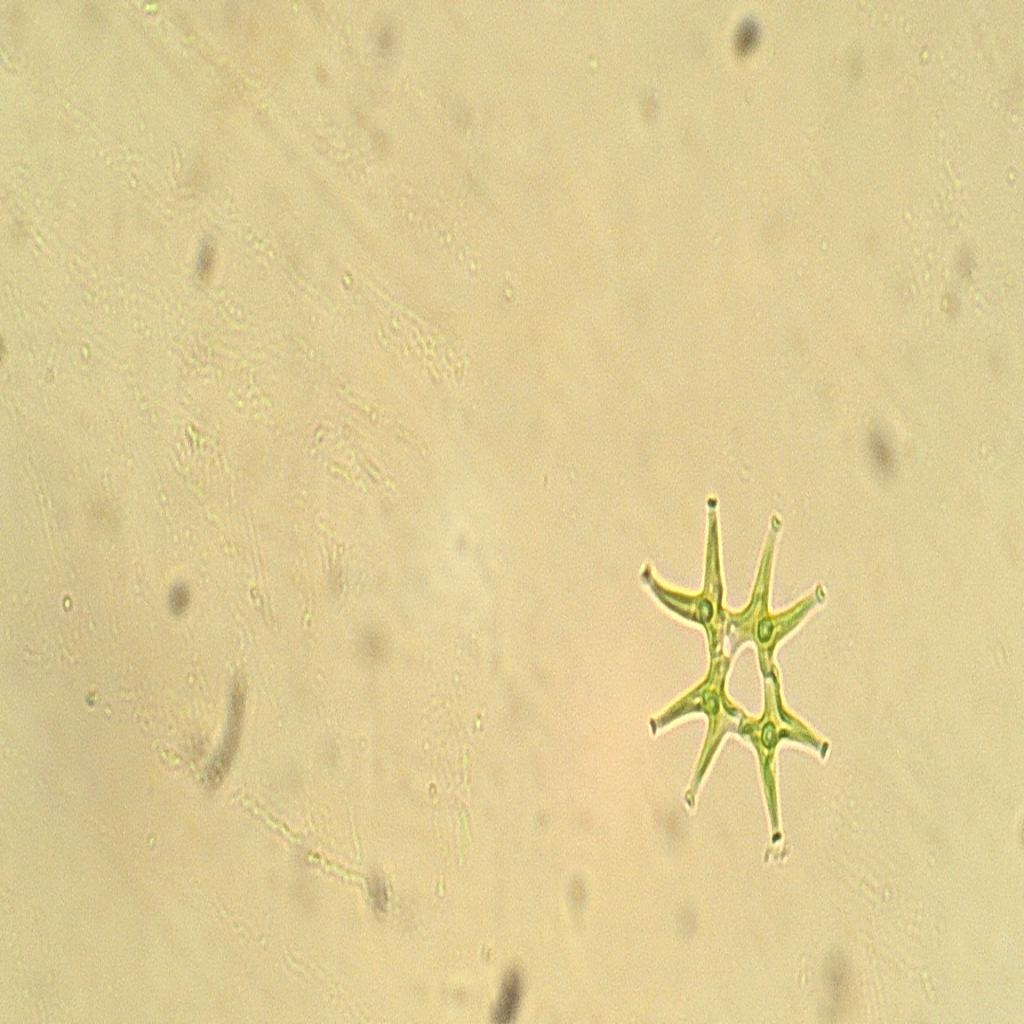Pediastrum_CT: (612, 488, 862, 868)
